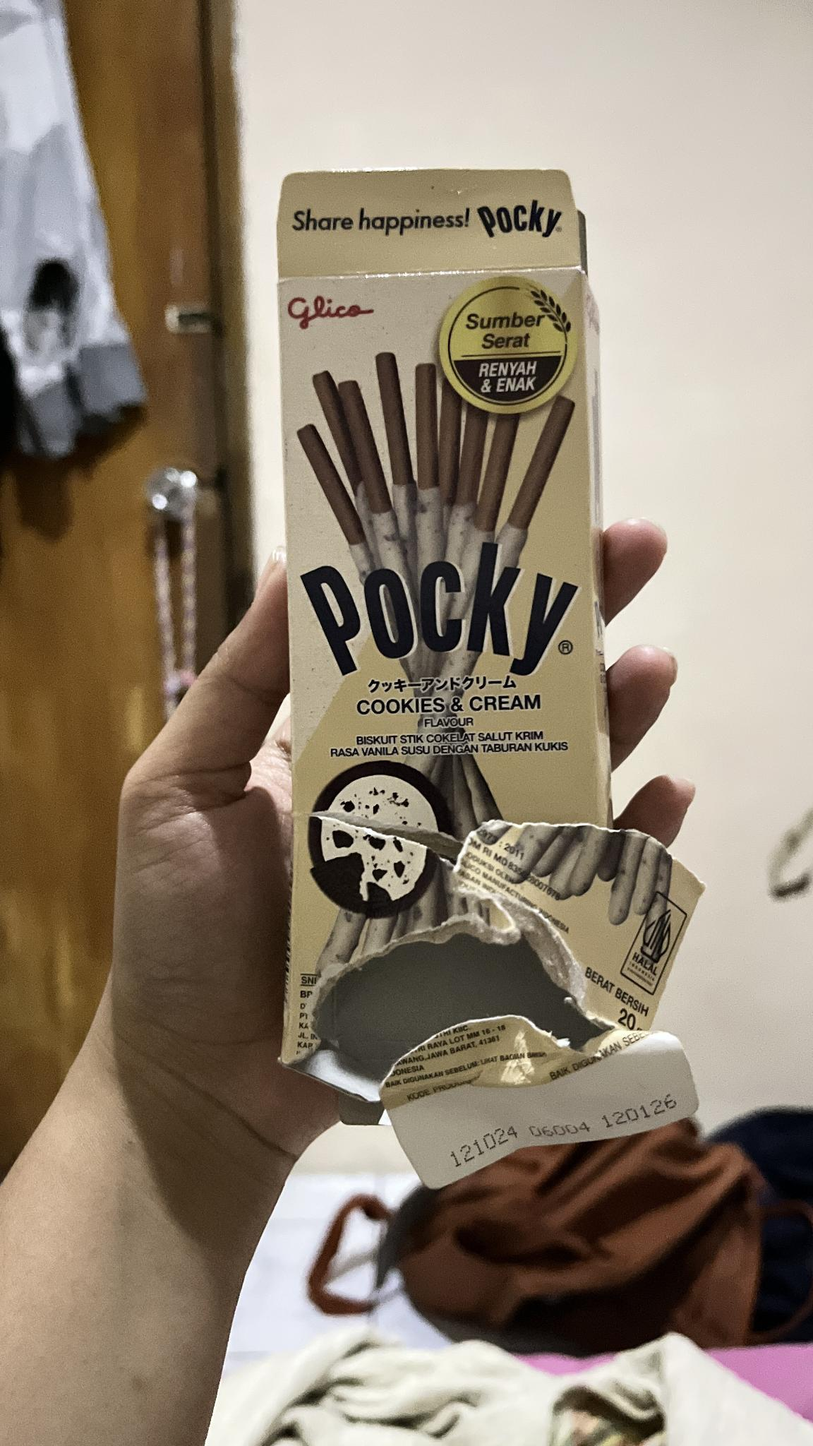Kertas: (276, 273, 624, 1058)
